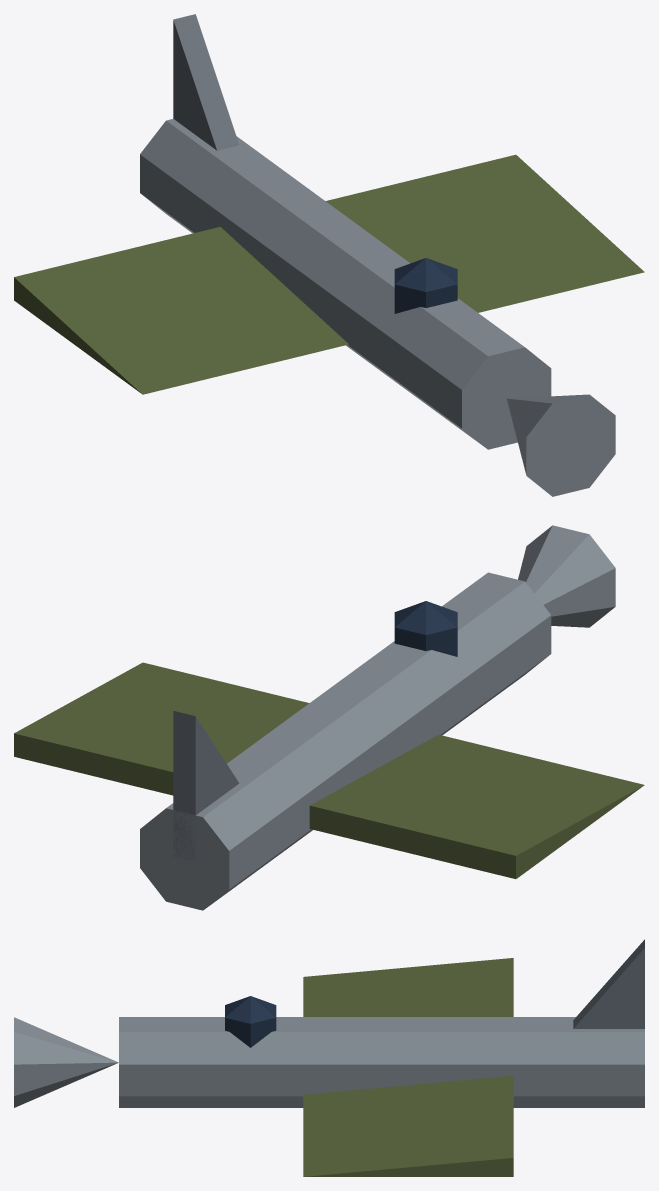
The model's file is jet.glb.
3 views of the same model, one above another, from view 1: azimuth 30°, elevation 25°; view 2: azimuth 150°, elevation 25°; view 3: azimuth 270°, elevation 25° (orthographic). The views are drawn at different scales.
Visible parts, largest first — view 1: wings, body, nose, tail, canopy; view 2: wings, body, nose, tail, canopy; view 3: body, wings, nose, tail, canopy.
Part boxes in pixels (bbox=[...]): wings: bbox=[14, 154, 644, 394]; body: bbox=[140, 119, 551, 449]; nose: bbox=[507, 394, 615, 496]; tail: bbox=[173, 14, 239, 150]; canopy: bbox=[394, 258, 457, 313]; wings: bbox=[14, 662, 644, 878]; body: bbox=[140, 572, 551, 910]; nose: bbox=[518, 525, 615, 627]; tail: bbox=[173, 711, 239, 860]; canopy: bbox=[394, 601, 457, 656]; body: bbox=[119, 1017, 644, 1107]; wings: bbox=[303, 958, 513, 1176]; nose: bbox=[14, 1017, 118, 1107]; tail: bbox=[573, 939, 644, 1028]; canopy: bbox=[225, 996, 276, 1047].
Size of the model in its own units: 0.18 by 0.066 by 0.24.
